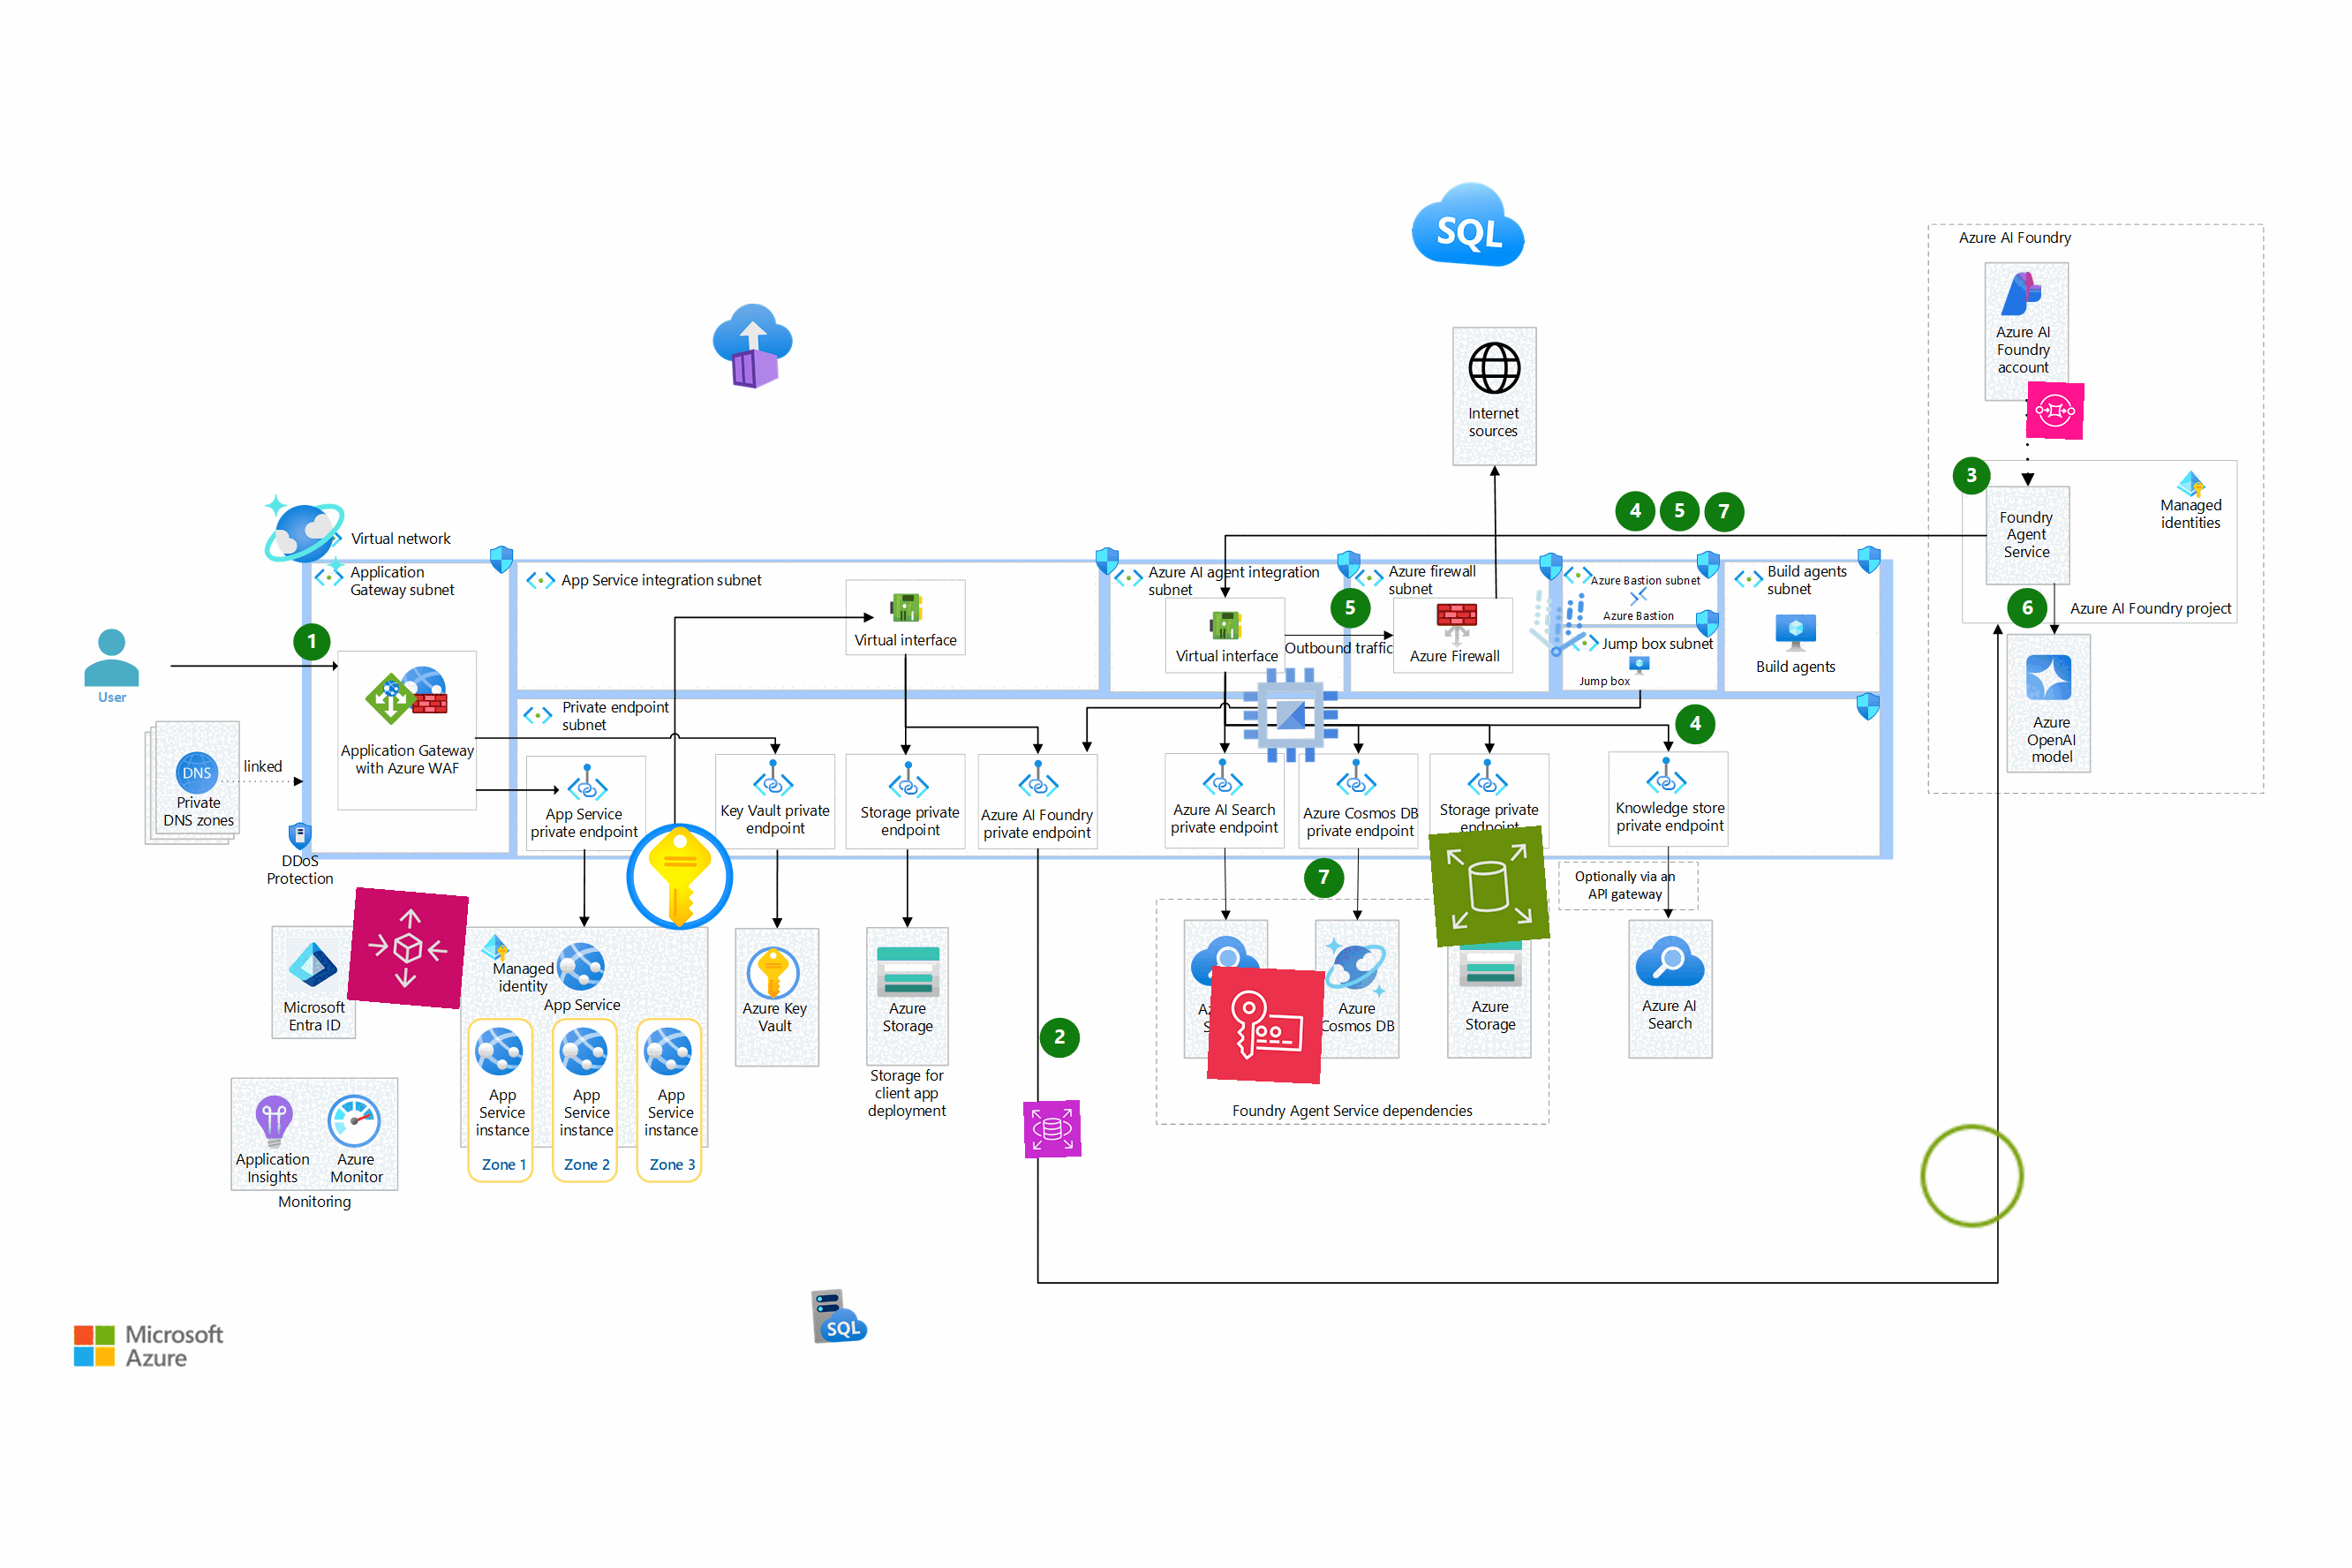aws_amazon_elastic_block_store: (1428, 826, 1550, 947)
aws_amazon_rds: (1022, 1099, 1083, 1158)
aws_amazon_simple_queue_service: (2025, 380, 2086, 441)
aws_auto_scaling: (346, 887, 469, 1010)
aws_key_management_service: (1207, 966, 1325, 1085)
aws_simple_storage_service_object: (1914, 1118, 2030, 1234)
azure_container_instances: (709, 301, 798, 390)
azure_cosmos_db: (261, 492, 348, 577)
azure_key_vaults: (623, 819, 737, 934)
azure_sql: (1409, 164, 1529, 285)
azure_sql_managed_instance: (808, 1284, 870, 1346)
gcp_compute_engine: (1234, 658, 1347, 772)
gcp_vertex_ai: (1512, 577, 1605, 670)
